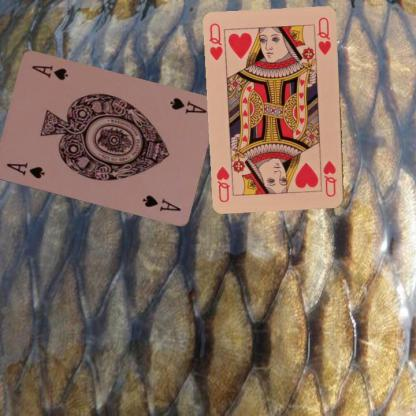As: (167, 95, 208, 115), (4, 161, 46, 180)
Qh: (207, 21, 224, 63), (321, 158, 338, 199)
